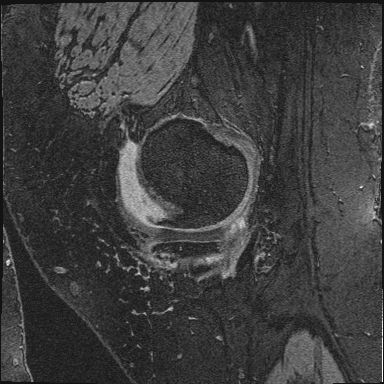effusion: (121, 152, 141, 218)
